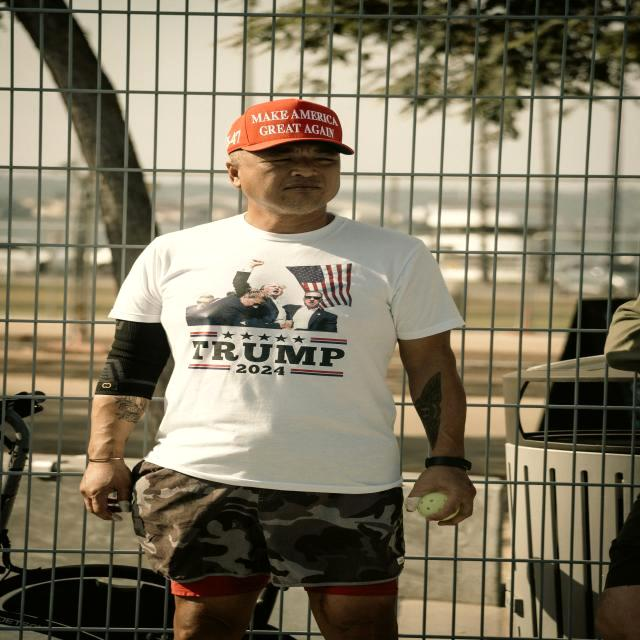no_hard_hat: (227, 98, 354, 155)
person: (80, 99, 475, 640)
